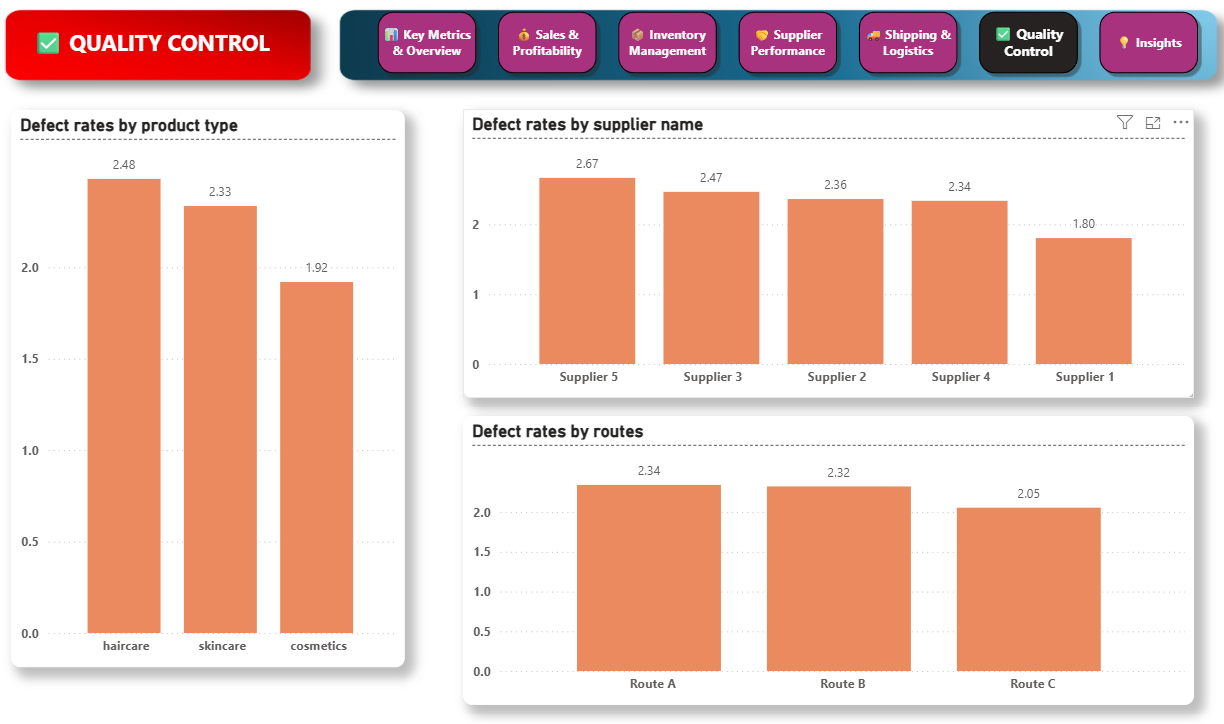

What the dashboard file says about the page in this screenshot:
{"tool":"powerbi","page":{"name":"✅ Quality Control","canvas":[1280,720],"ordinal":5},"visuals":[{"type":"clusteredColumnChart","title":"Defect rates by product type","fields":{"Category":["supply2.Product_type","supply2.SKU"],"Y":["Avg(supply2.Defect_rates)"]},"box":[55.4,118.7,383.2,541.8],"z":0},{"type":"clusteredColumnChart","title":"Defect rates by supplier name","fields":{"Y":["Avg(supply2.Defect_rates)"],"Category":["supply2.Supplier_name"]},"box":[495.1,117.7,711,281.1],"z":1000},{"type":"clusteredColumnChart","title":"Defect rates by routes","fields":{"Y":["Avg(supply2.Defect_rates)"],"Category":["supply2.Routes"]},"box":[495.1,416.3,711,281.1],"z":2000},{"type":"image","box":[44.7,17.5,1209,91.4],"z":3000},{"type":"pageNavigator","box":[406.6,17.5,811.2,71],"z":4000},{"type":"textbox","box":[72,33.1,263.6,60.3],"z":4001}]}

Visuals, with their boxes on the page's 1280x720 design canvas (x1, y1, x2, y2). These are canvas units, not pixel positions in the 1224x724 screenshot, which may show the page scaled, cropped or inside an application window:
"Defect rates by product type" clusteredColumnChart: left=55, top=119, right=439, bottom=660
"Defect rates by supplier name" clusteredColumnChart: left=495, top=118, right=1206, bottom=399
"Defect rates by routes" clusteredColumnChart: left=495, top=416, right=1206, bottom=697
image: left=45, top=18, right=1254, bottom=109
pageNavigator: left=407, top=18, right=1218, bottom=88
textbox: left=72, top=33, right=336, bottom=93
